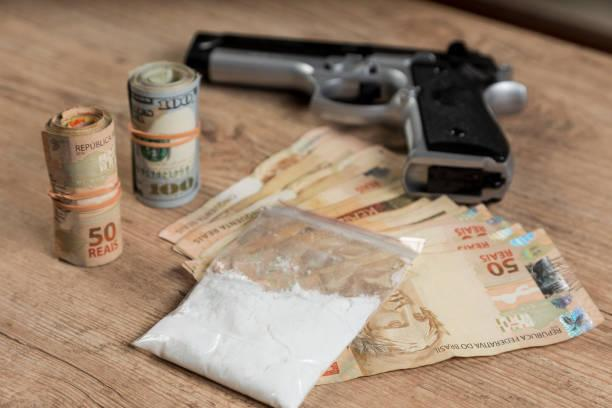weapon: (188, 21, 530, 206)
